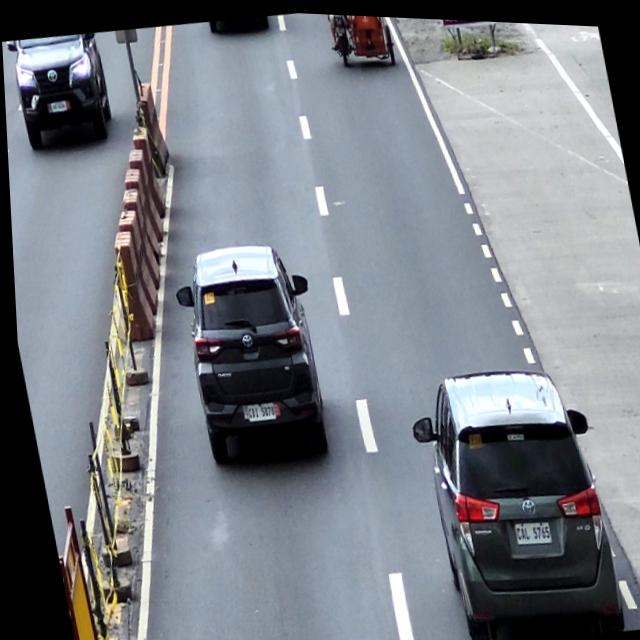Car: (397, 350, 622, 640), (164, 232, 337, 470), (5, 29, 117, 154)
License-Plate: (506, 511, 548, 543), (240, 396, 274, 422), (48, 98, 69, 114), (334, 21, 347, 34)
Tricycle: (324, 11, 397, 69)
